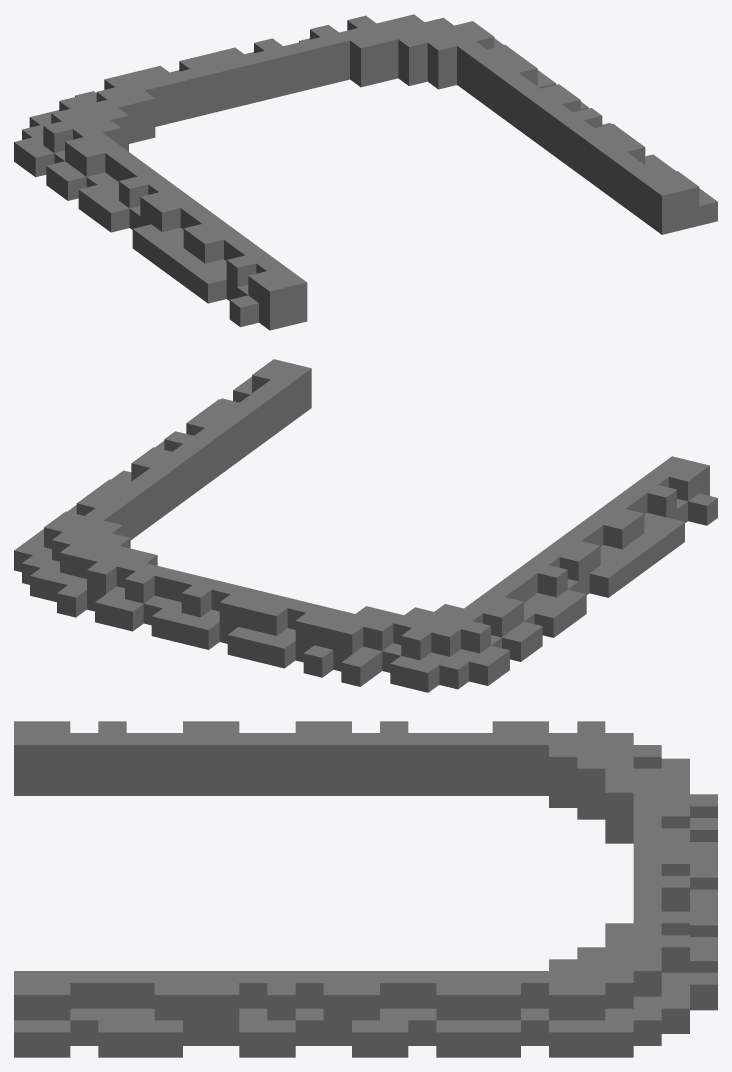
File: Pit_D_Start.obj
3 views of the same model, one above another, from view 1: azimuth 30°, elevation 25°; view 2: azimuth 150°, elevation 25°; view 3: azimuth 270°, elevation 25° (orthographic). The views are drawn at different scales.
Parts seen in each view (by area): view 1: Pit_D_Start; view 2: Pit_D_Start; view 3: Pit_D_Start.
Boxes of the visible parts, bbox=[...] form: Pit_D_Start: bbox=[14, 14, 717, 330]; Pit_D_Start: bbox=[14, 359, 717, 692]; Pit_D_Start: bbox=[14, 721, 717, 1057].
Size of the model in its own units: 2.5 by 0.2 by 2.5.
